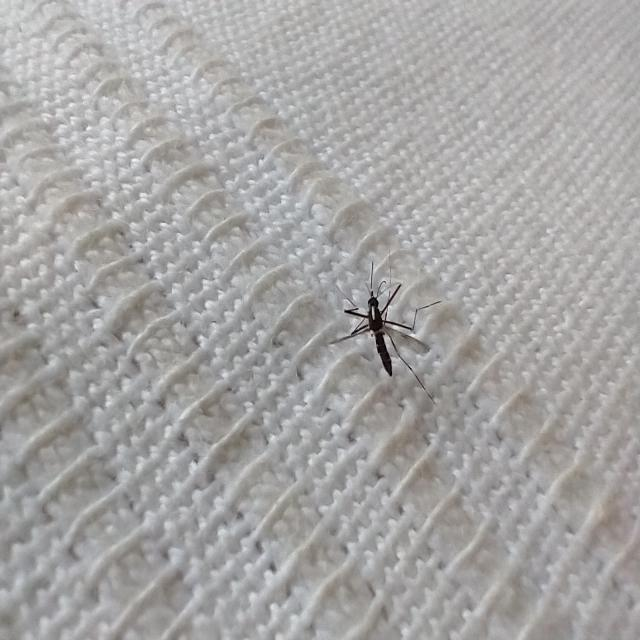albopictus: (330, 245, 446, 398)
